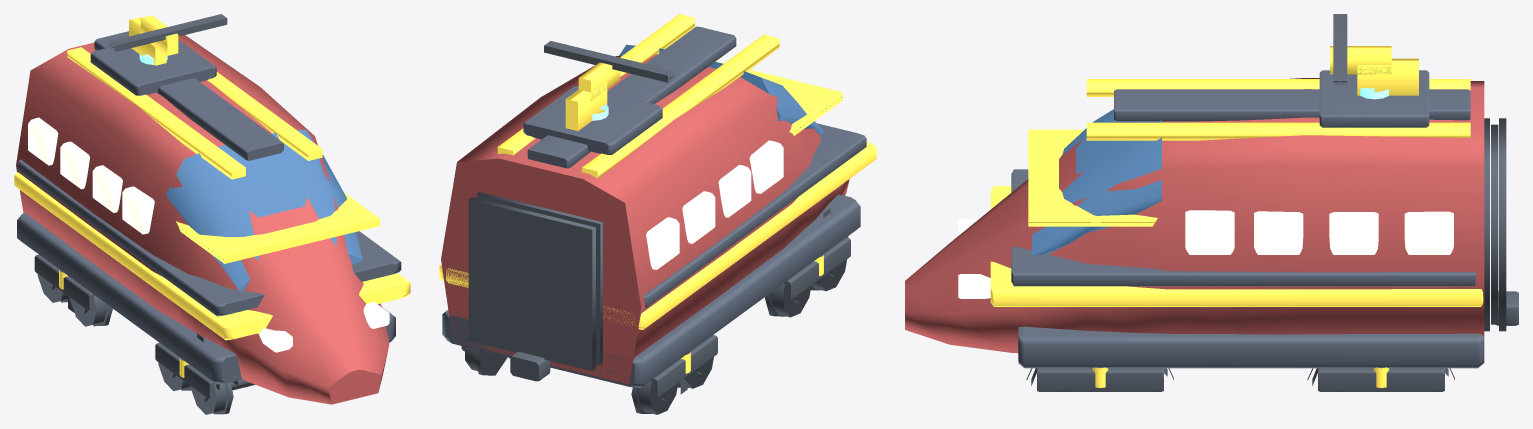
File: loco_bullet.glb
3 renders of one model, left to right at view 1: azimuth 30°, elevation 25°; view 2: azimuth 150°, elevation 25°; view 3: azimuth 270°, elevation 25°, orthographic. The views are drawn at different scales.
Parts seen in each view (by area): view 1: LocoBulletHighSpeed; view 2: LocoBulletHighSpeed; view 3: LocoBulletHighSpeed.
Boxes of the visible parts, box(x1,y1,x2,y2) form: LocoBulletHighSpeed: box(14, 14, 410, 414); LocoBulletHighSpeed: box(439, 14, 876, 414); LocoBulletHighSpeed: box(905, 14, 1518, 391).
Size of the model in its own units: 0.368 by 0.5244 by 0.8955.
